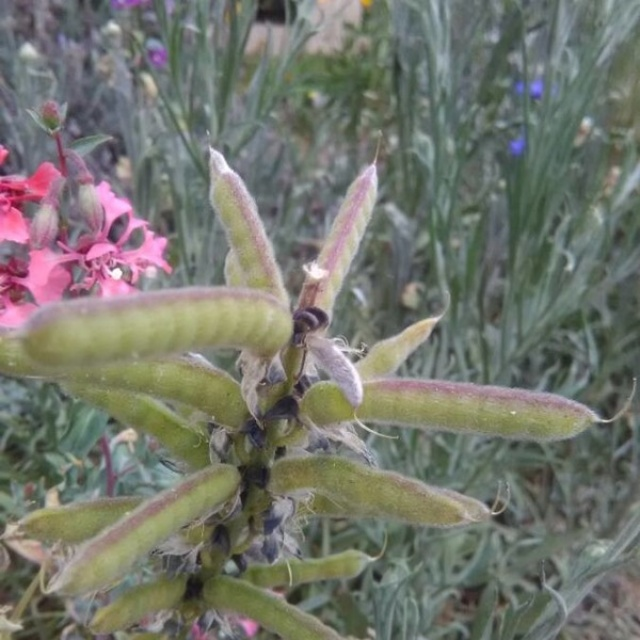obstacle: (50, 158, 503, 621)
